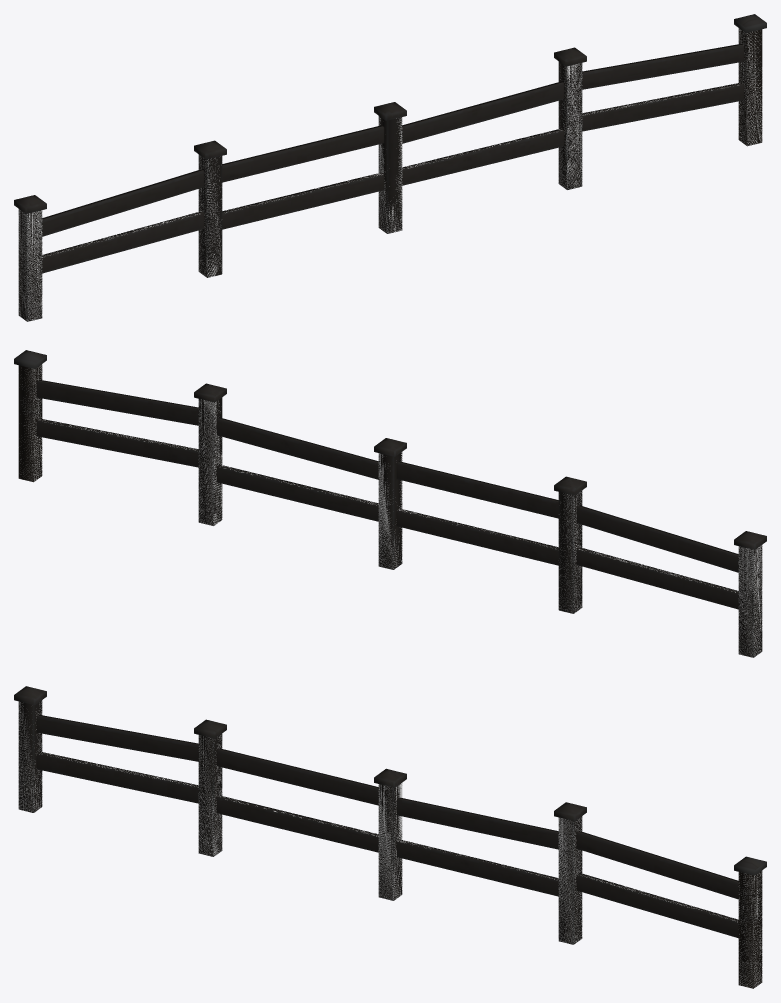
The model's file is objects_un_woodenfence01.gltf.
3 views of the same model, one above another, from view 1: azimuth 30°, elevation 25°; view 2: azimuth 150°, elevation 25°; view 3: azimuth 330°, elevation 25° (orthographic).
Parts seen in each view (by area): view 1: um_objects_un_woodenfence01_model_lod0Shape:objects_un_woode (×2); view 2: um_objects_un_woodenfence01_model_lod0Shape:objects_un_woode (×2); view 3: um_objects_un_woodenfence01_model_lod0Shape:objects_un_woode (×2).
Part boxes in pixels (x1,y1,x2,y2): um_objects_un_woodenfence01_model_lod0Shape:objects_un_woode (×2): [14, 14, 766, 321]; um_objects_un_woodenfence01_model_lod0Shape:objects_un_woode (×2): [14, 350, 766, 657]; um_objects_un_woodenfence01_model_lod0Shape:objects_un_woode (×2): [14, 686, 766, 988].
Size of what is drawn, in the model's own units: 7.41 by 1.3 by 0.21.
Materials: 2 (1 with a texture image).
